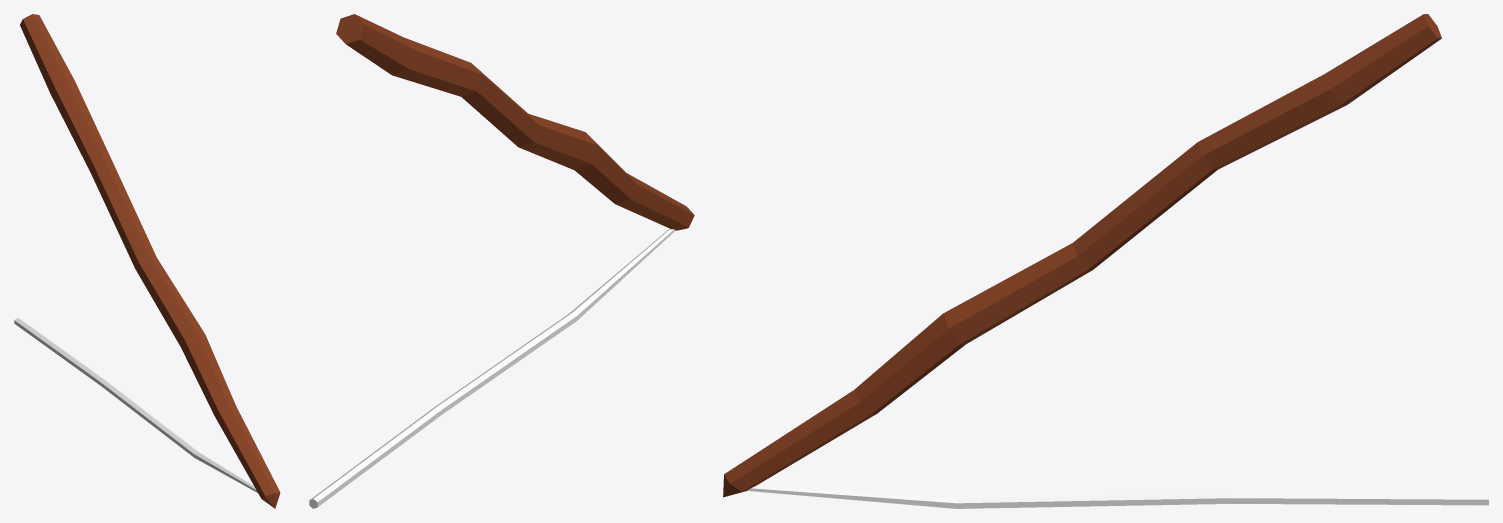
Rendered from FishingRod.fbx.
3 renders of one model, left to right at view 1: azimuth 30°, elevation 25°; view 2: azimuth 150°, elevation 25°; view 3: azimuth 270°, elevation 25°, orthographic. The views are drawn at different scales.
Visible parts, largest first — view 1: Cylinder.006; view 2: Cylinder.006; view 3: Cylinder.006.
Part boxes in pixels (x1,y1,x2,y2): Cylinder.006: (14, 14, 280, 508); Cylinder.006: (309, 14, 694, 508); Cylinder.006: (723, 14, 1488, 508).
Bounding box in the file's own units: 39.13 × 453 × 642.
